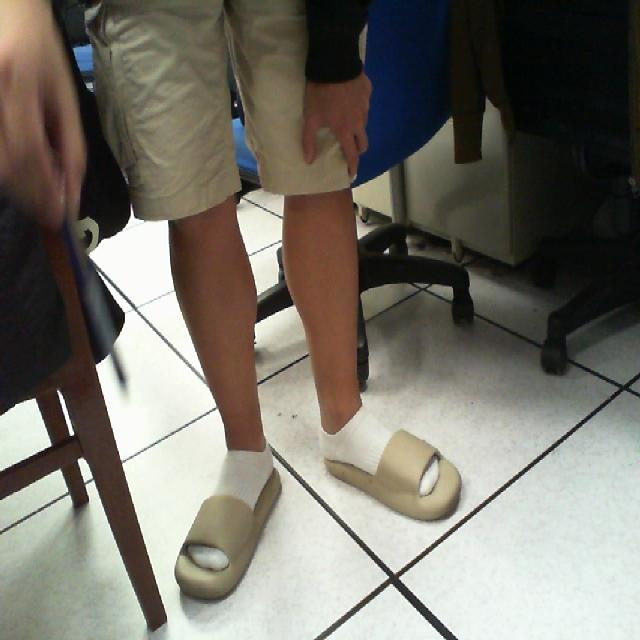Pen: (38, 141, 153, 429)
